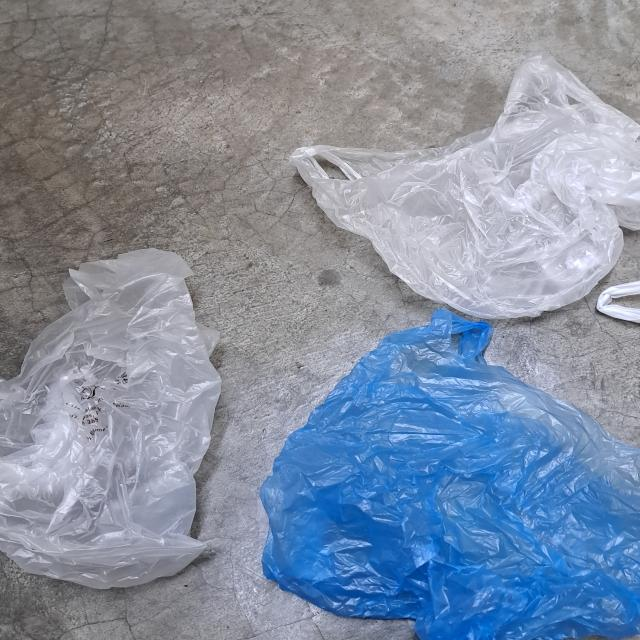plastic bag: (260, 309, 640, 640), (286, 57, 640, 323), (0, 247, 225, 592)
